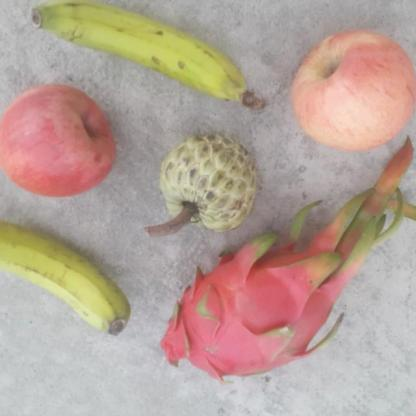annona: (156, 132, 259, 236)
apple: (288, 26, 416, 154), (0, 81, 118, 198)
banana: (28, 0, 264, 110), (0, 211, 130, 336)
pitaya: (153, 240, 341, 385)
